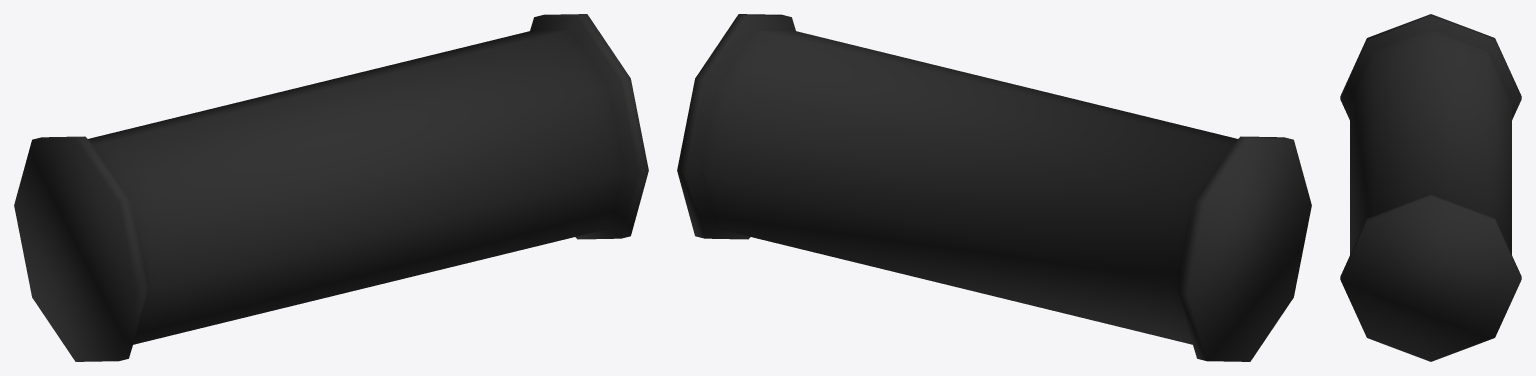
The model's file is pipe_straight.gltf.
The picture shows the model from 3 angles, left to right: view 1: azimuth 30°, elevation 25°; view 2: azimuth 150°, elevation 25°; view 3: azimuth 270°, elevation 25°; orthographic projection. The views are drawn at different scales.
Parts seen in each view (by area): view 1: Cylinder.001; view 2: Cylinder.001; view 3: Cylinder.001.
Boxes of the visible parts, <box> form: Cylinder.001: <box>14,14,648,361</box>; Cylinder.001: <box>677,14,1311,361</box>; Cylinder.001: <box>1340,14,1521,361</box>.
Size of the model in its own units: 6 by 2.5 by 2.5.
Materials: 1 (1 with a texture image).
